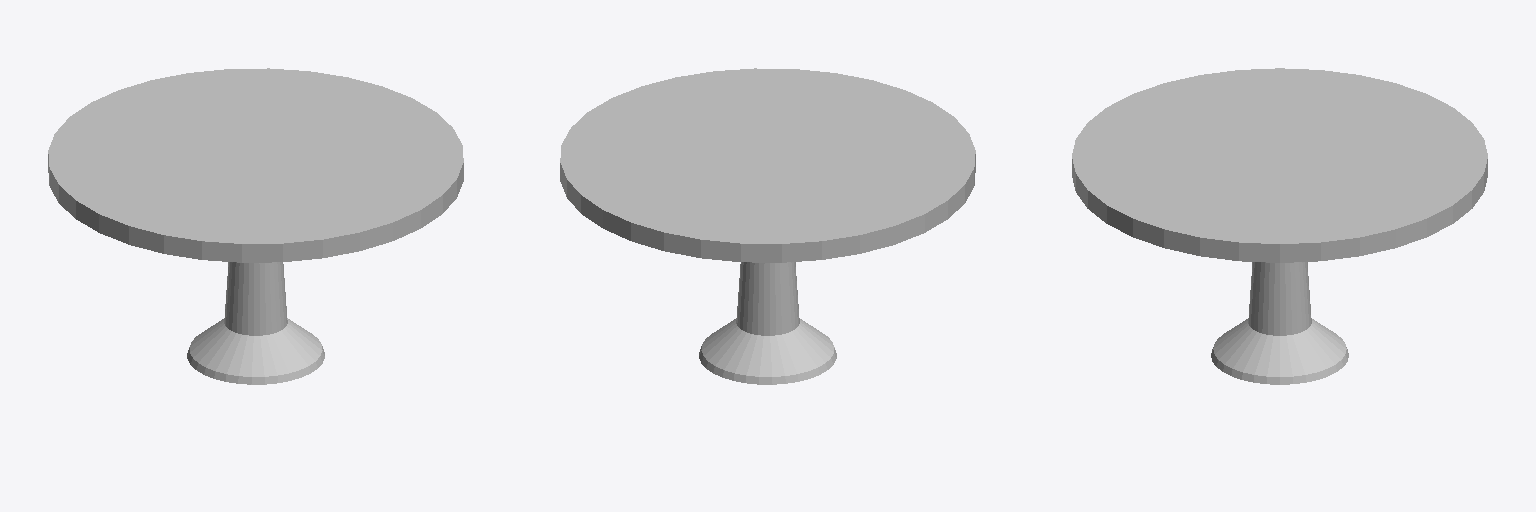
File: table.obj
3 renders of one model, left to right at view 1: azimuth 30°, elevation 25°; view 2: azimuth 150°, elevation 25°; view 3: azimuth 270°, elevation 25°, orthographic.
Visible parts, largest first — view 1: Cylinder; view 2: Cylinder; view 3: Cylinder.
Boxes of the visible parts, <box> form: Cylinder: <box>48,68,463,384</box>; Cylinder: <box>560,68,975,384</box>; Cylinder: <box>1072,68,1487,384</box>.
Size of the model in its own units: 1.69 by 0.8936 by 1.69.